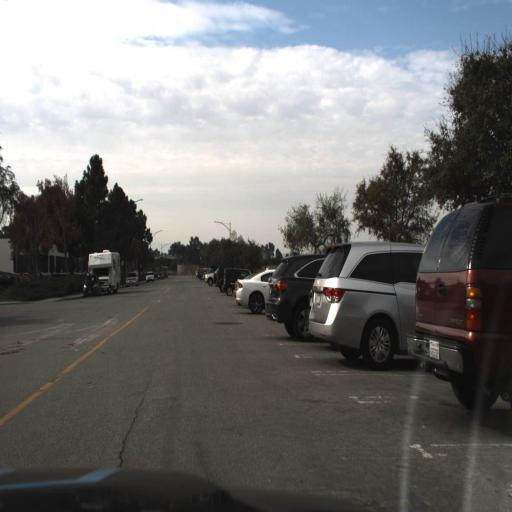car: (310, 235, 416, 365), (264, 259, 314, 344), (235, 270, 274, 312), (81, 270, 104, 300), (220, 266, 238, 300), (202, 264, 218, 292), (123, 269, 141, 289)
truck: (91, 250, 123, 293)
